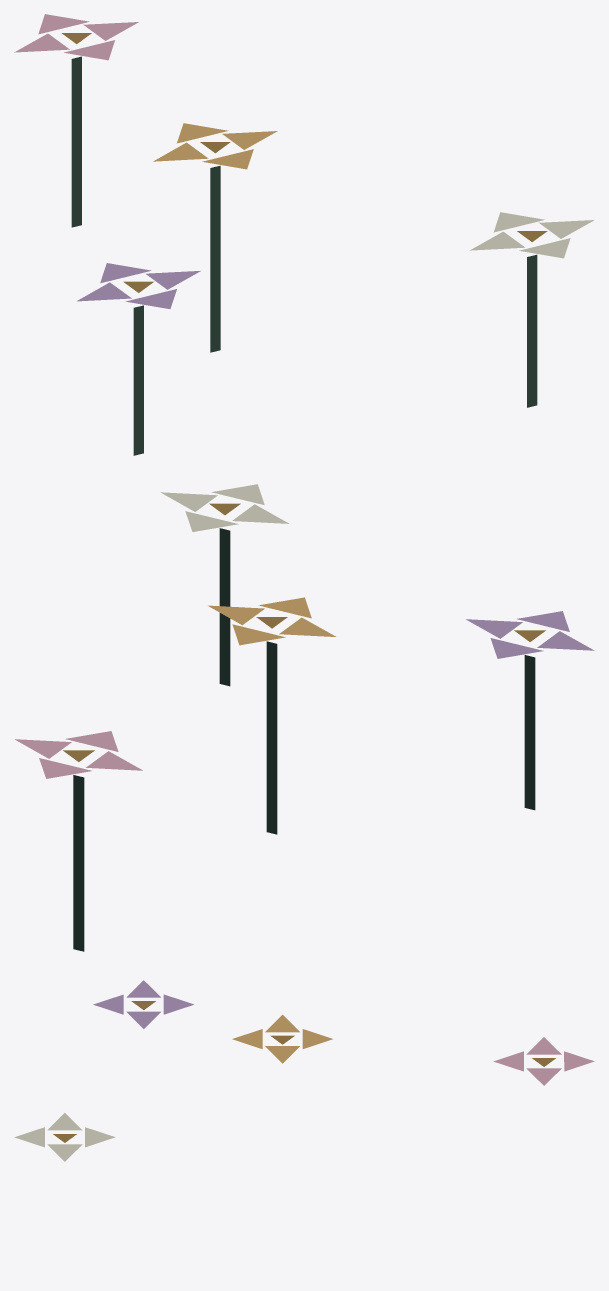
The model's file is low.flowers.a_low.glb.
3 views of the same model, one above another, from view 1: azimuth 30°, elevation 25°; view 2: azimuth 150°, elevation 25°; view 3: azimuth 270°, elevation 25° (orthographic). The views are drawn at different scales.
Bounding box in the file's own units: 0.3594 × 0.1504 × 0.4794.
